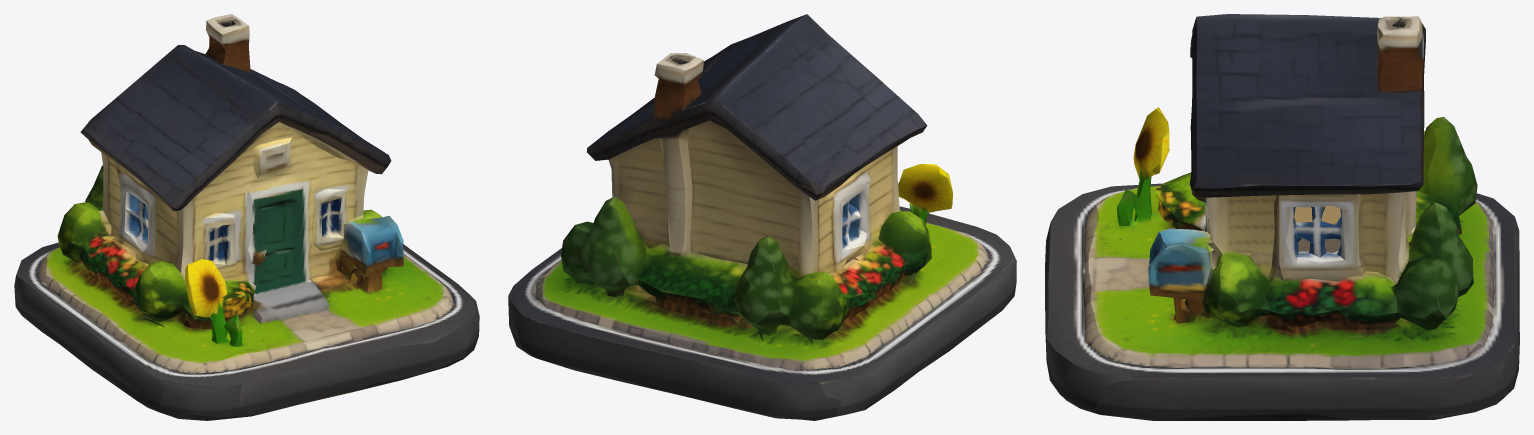
File: house-starter-bungalow.glb
3 renders of one model, left to right at view 1: azimuth 30°, elevation 25°; view 2: azimuth 150°, elevation 25°; view 3: azimuth 270°, elevation 25°, orthographic. The views are drawn at different scales.
Visible parts, largest first — view 1: geometry_0; view 2: geometry_0; view 3: geometry_0.
Boxes of the visible parts, box(x1,y1,x2,y2) form: geometry_0: box(14, 14, 479, 420); geometry_0: box(508, 14, 1016, 420); geometry_0: box(1045, 14, 1519, 420).
Size of the model in its own units: 0.9842 by 0.7463 by 1.
Materials: 1 (1 with a texture image).
